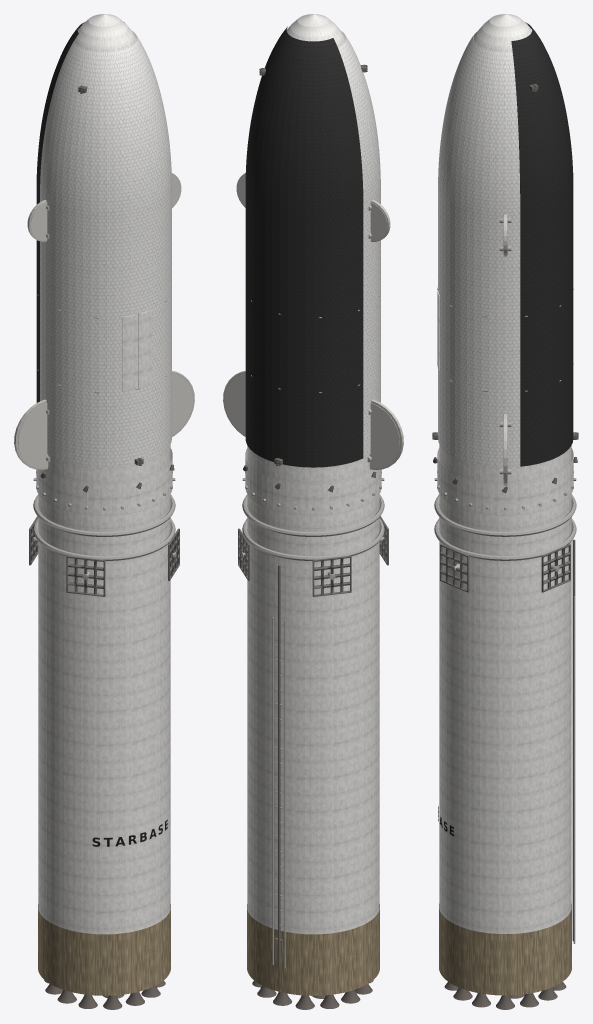
File: starship_stack.glb
The picture shows the model from 3 angles, left to right: view 1: azimuth 30°, elevation 25°; view 2: azimuth 150°, elevation 25°; view 3: azimuth 270°, elevation 25°; orthographic projection.
Visible parts, largest first — view 1: hull_booster, tps_blanket, aft_skirt, interstage, hull_ship, tps_shield, flap_aft_w_rim, bay_door, bay_door.001, grid_fin.002, cupper, flap_aft_rim (+3 smaller); view 2: hull_booster, tps_shield, aft_skirt, tps_blanket, interstage, hull_ship, flap_aft_w_rim, feed_pipe, grid_fin.001, cupper, flap_aft_rim, cupper.001 (+4 smaller); view 3: hull_booster, tps_blanket, tps_shield, aft_skirt, interstage, hull_ship, ladder_rail.001, cupper, feed_pipe, grid_fin, grid_fin.003, cupper.001.
Part boxes in pixels (left/top/right/bottom): hull_booster: left=38, top=457, right=170, bottom=934; tps_blanket: left=40, top=31, right=171, bottom=467; aft_skirt: left=38, top=904, right=170, bottom=995; interstage: left=36, top=448, right=172, bottom=515; hull_ship: left=48, top=14, right=170, bottom=482; tps_shield: left=36, top=22, right=124, bottom=402; flap_aft_w_rim: left=18, top=403, right=48, bottom=467; bay_door: left=122, top=314, right=137, bottom=391; bay_door.001: left=138, top=310, right=151, bottom=388; grid_fin.002: left=66, top=555, right=105, bottom=596; cupper: left=33, top=494, right=175, bottom=536; flap_aft_rim: left=172, top=374, right=192, bottom=434; hull_booster: left=247, top=457, right=379, bottom=934; tps_shield: left=245, top=26, right=363, bottom=467; aft_skirt: left=247, top=904, right=379, bottom=995; tps_blanket: left=337, top=31, right=380, bottom=457; interstage: left=245, top=448, right=381, bottom=515; hull_ship: left=247, top=14, right=369, bottom=482; flap_aft_w_rim: left=369, top=403, right=399, bottom=467; feed_pipe: left=278, top=565, right=280, bottom=966; grid_fin.001: left=312, top=555, right=351, bottom=596; cupper: left=242, top=494, right=384, bottom=536; flap_aft_rim: left=225, top=374, right=245, bottom=434; cupper.001: left=242, top=518, right=384, bottom=560; hull_booster: left=439, top=457, right=571, bottom=933; tps_blanket: left=438, top=31, right=520, bottom=467; tps_shield: left=511, top=22, right=573, bottom=466; aft_skirt: left=439, top=904, right=571, bottom=995; interstage: left=437, top=448, right=573, bottom=515; hull_ship: left=439, top=14, right=571, bottom=482; ladder_rail.001: left=573, top=596, right=575, bottom=943; cupper: left=434, top=494, right=576, bottom=536; feed_pipe: left=572, top=539, right=575, bottom=941; grid_fin: left=541, top=544, right=570, bottom=592; grid_fin.003: left=440, top=544, right=469, bottom=592; cupper.001: left=434, top=518, right=576, bottom=560.
Size of the model in its own units: 14.06 by 72.88 by 9.92.
Materials: 12 (5 with a texture image).
